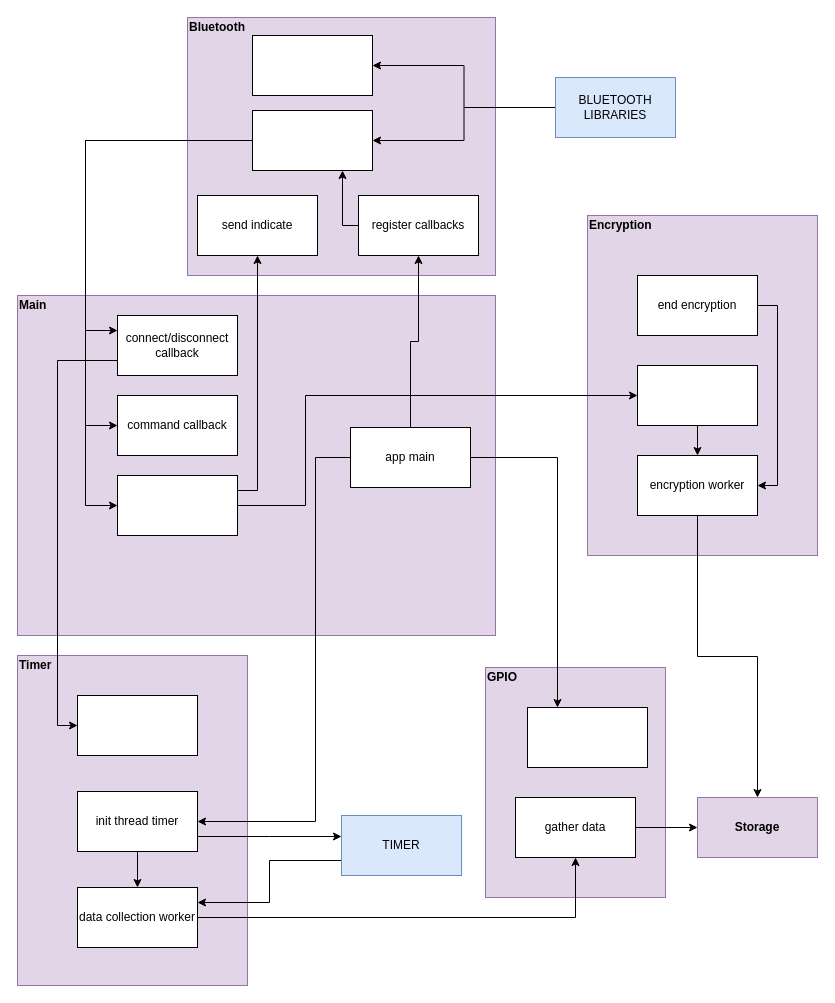
The diagram is 835 pixels wide and 1003 high, and some of its shapes have lost their labels. Here are the shapes that lost their labels. From the top down, the centre of each, then its label:
At (312,65): "gap event handler".
At (312,140): "gatt event handler".
At (697,395): "init encryption".
At (177,505): "data callback".
At (137,725): "pause/resume thread timer".
At (587,737): "init gpio".
